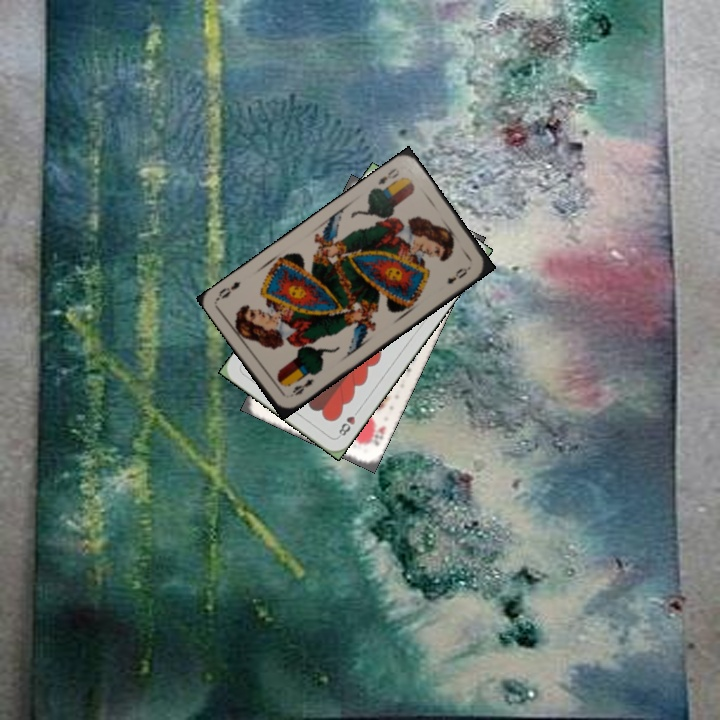EO: (288, 374, 316, 398), (374, 164, 402, 187)
H8: (334, 405, 362, 440)
HK: (361, 422, 388, 449)
